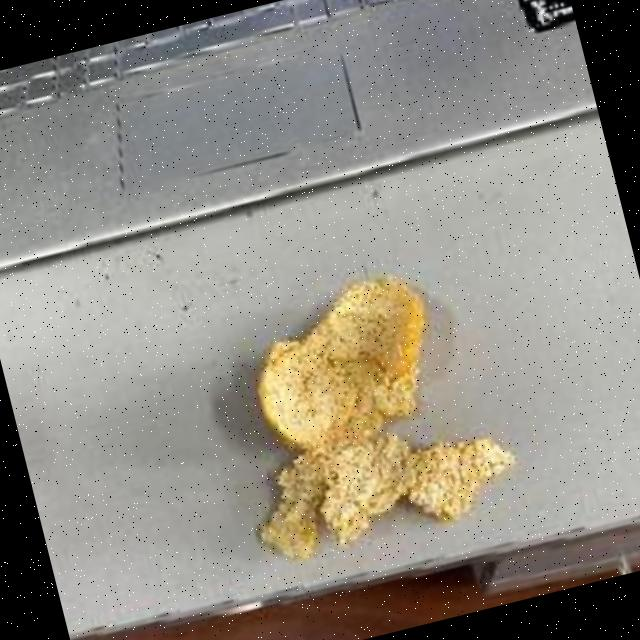orange-peel: (198, 247, 529, 572)
